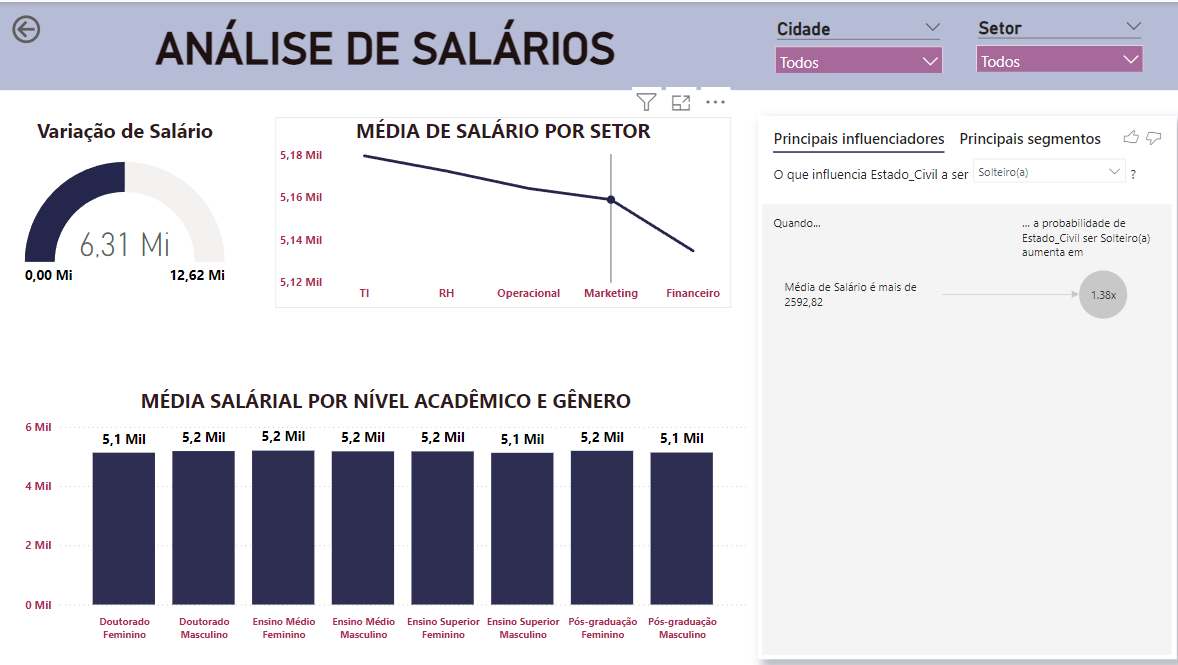

What the dashboard file says about the page in this screenshot:
{"tool":"powerbi","page":{"name":"Análise de Salário","canvas":[1280,720],"ordinal":1},"visuals":[{"type":"textbox","box":[0,0,1280.3,95.1],"z":0},{"type":"slicer","fields":{"Values":["Sheet1.Cidade"]},"box":[827.8,13.5,201.9,63],"z":1000},{"type":"actionButton","box":[10,10,100,40],"z":2000},{"type":"slicer","fields":{"Values":["Sheet1.Setor"]},"box":[1045.2,12.6,201.5,63],"z":3000},{"type":"clusteredColumnChart","title":"MÉDIA SALÁRIAL POR  NÍVEL ACADÊMICO E GÊNERO","fields":{"Category":["Sheet1.Nível_Educação","Sheet1.Sexo"],"Y":["Avg(Sheet1.Salário)"]},"box":[22.8,415.4,789.5,281.7],"z":4000},{"type":"areaChart","title":"MÉDIA DE SALÁRIO POR SETOR","fields":{"Category":["Sheet1.Setor"],"Y":["Avg(Sheet1.Salário)"]},"box":[298.7,123.8,492.2,207.7],"z":5000},{"type":"gauge","fields":{"Y":["Sum(Sheet1.Salário)"]},"box":[22.8,123.8,226.2,207.7],"z":6000},{"type":"keyDriversVisual","fields":{"Target":["Sheet1.Estado_Civil"],"ExplainBy":["Avg(Sheet1.Salário)"]},"box":[819.3,122.3,452.5,587.4],"z":7000}]}

Visuals, with their boxes on the page's 1280x720 design canvas (x1, y1, x2, y2). These are canvas units, not pixel positions in the 1178x665 screenshot, which may show the page scaled, cropped or inside an application window:
textbox: <region>0, 0, 1280, 95</region>
slicer - Sheet1.Cidade: <region>828, 14, 1030, 76</region>
actionButton: <region>10, 10, 110, 50</region>
slicer - Sheet1.Setor: <region>1045, 13, 1247, 76</region>
"MÉDIA SALÁRIAL POR  NÍVEL ACADÊMICO E GÊNERO" clusteredColumnChart: <region>23, 415, 812, 697</region>
"MÉDIA DE SALÁRIO POR SETOR" areaChart: <region>299, 124, 791, 332</region>
gauge - Sum(Sheet1.Salário): <region>23, 124, 249, 332</region>
keyDriversVisual - Sheet1.Estado_Civil x Avg(Sheet1.Salário): <region>819, 122, 1272, 710</region>
